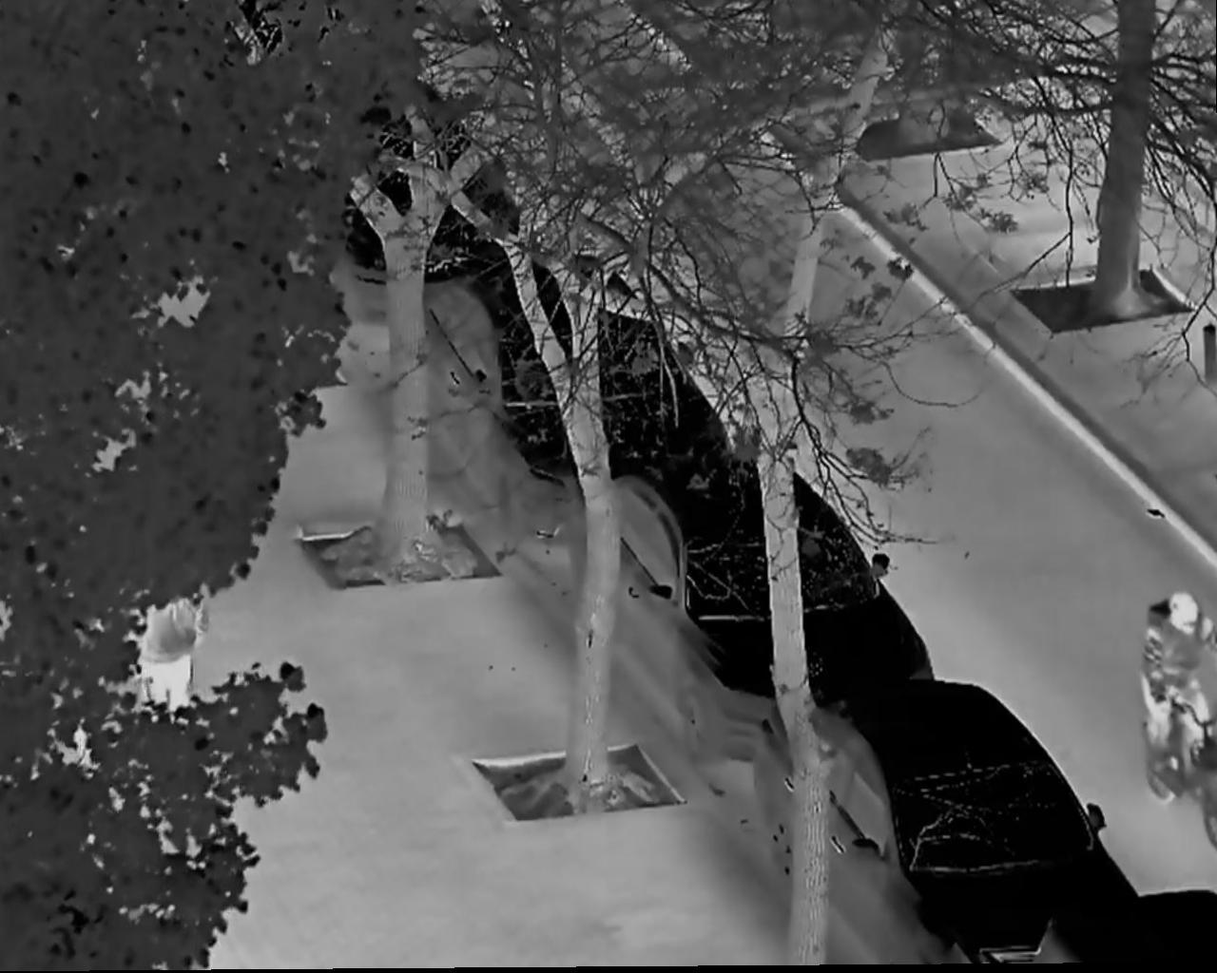person: (1141, 594, 1217, 795), (131, 547, 207, 739)
